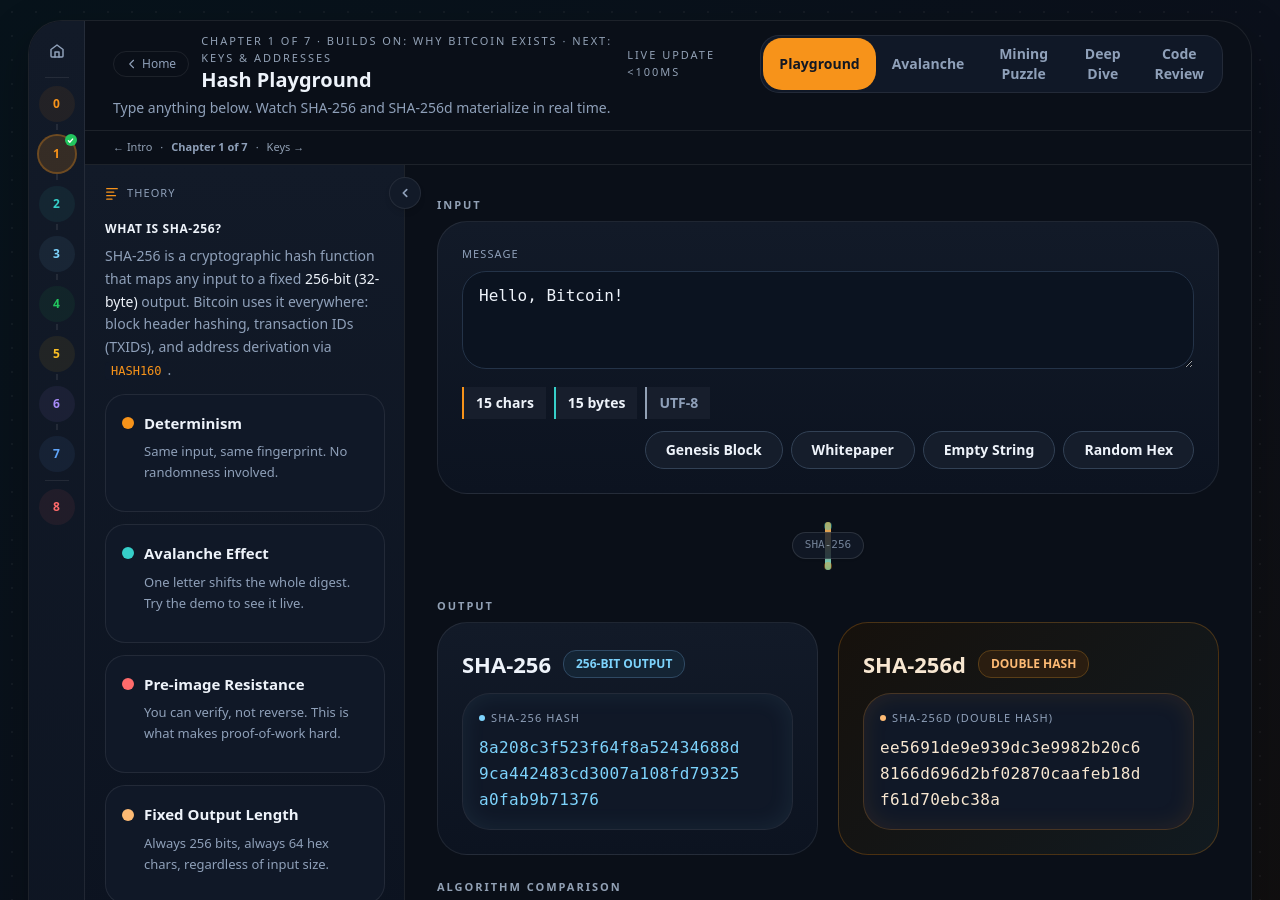
Test case: HashPlayground › switches to Avalanche tab and shows modified input
The image size is (1280, 900).
Click the tab "Avalanche" at (928, 64), box [876, 38, 980, 90]
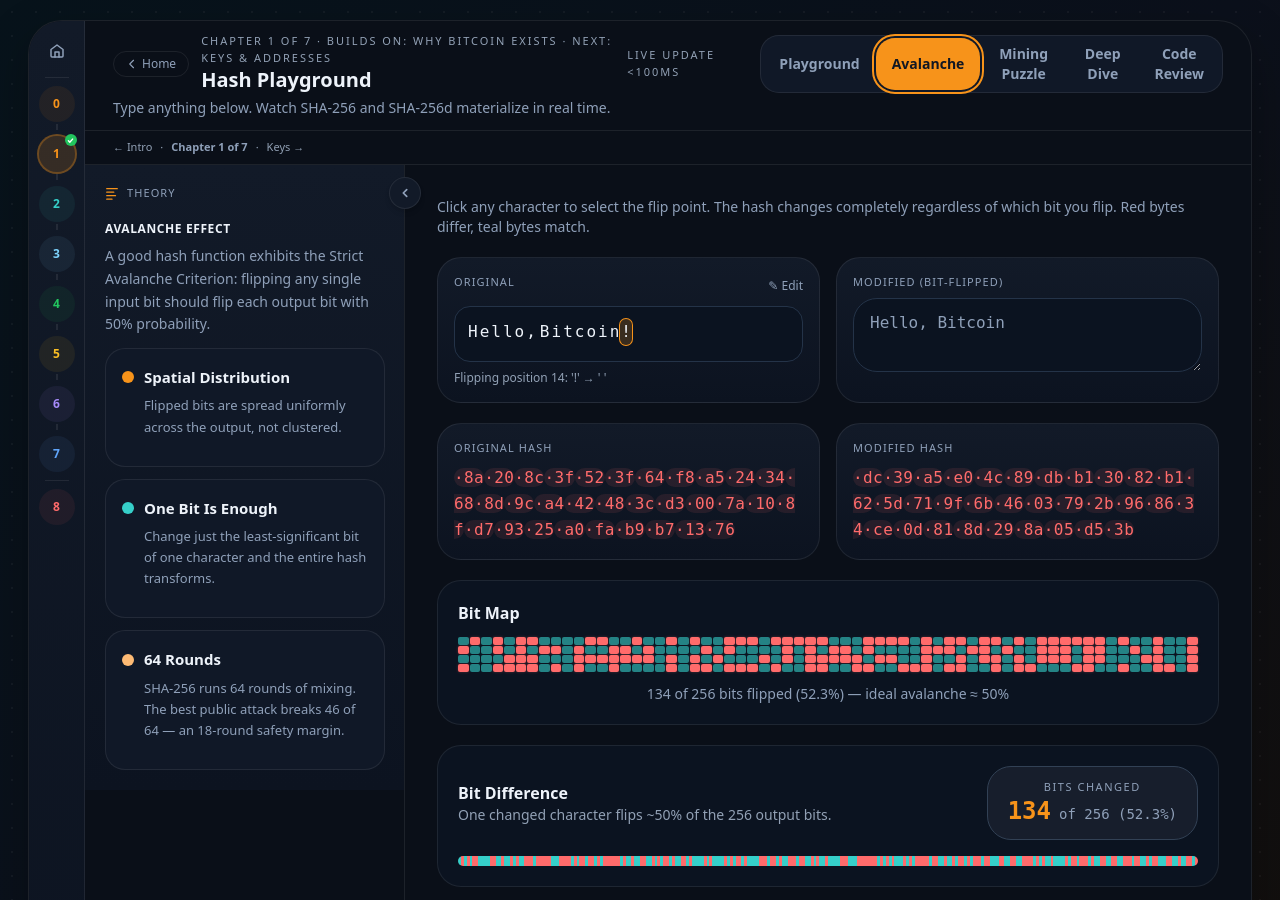
Check: the text box labelled "Modified (bit-flipped)" is shown, box [853, 298, 1202, 372]
